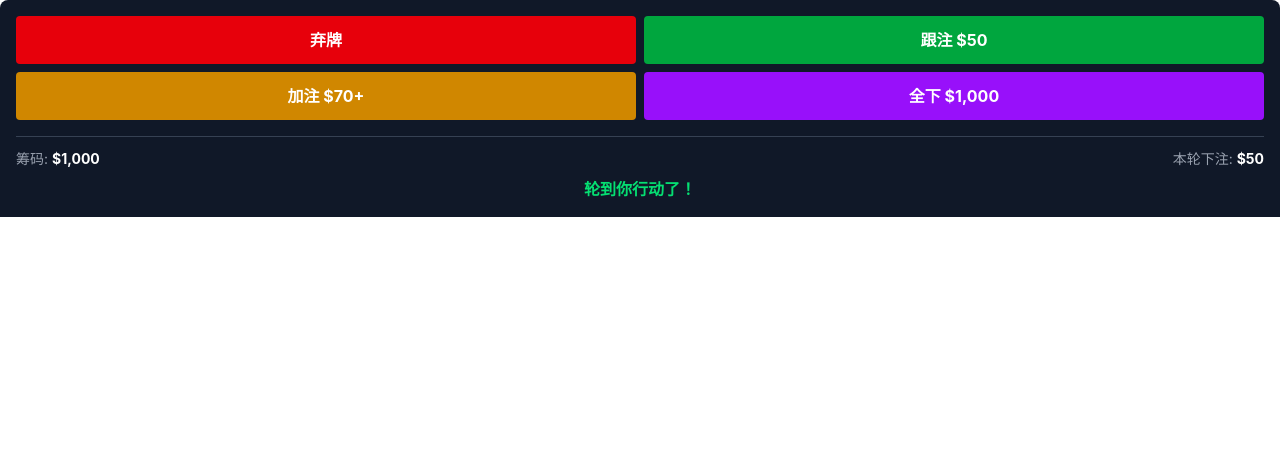
Test: ActionPanel › should use raise slider correctly
Step 1. Click the button "加注 $70+" → (326, 96), box x1=16 y1=72 x2=636 y2=120
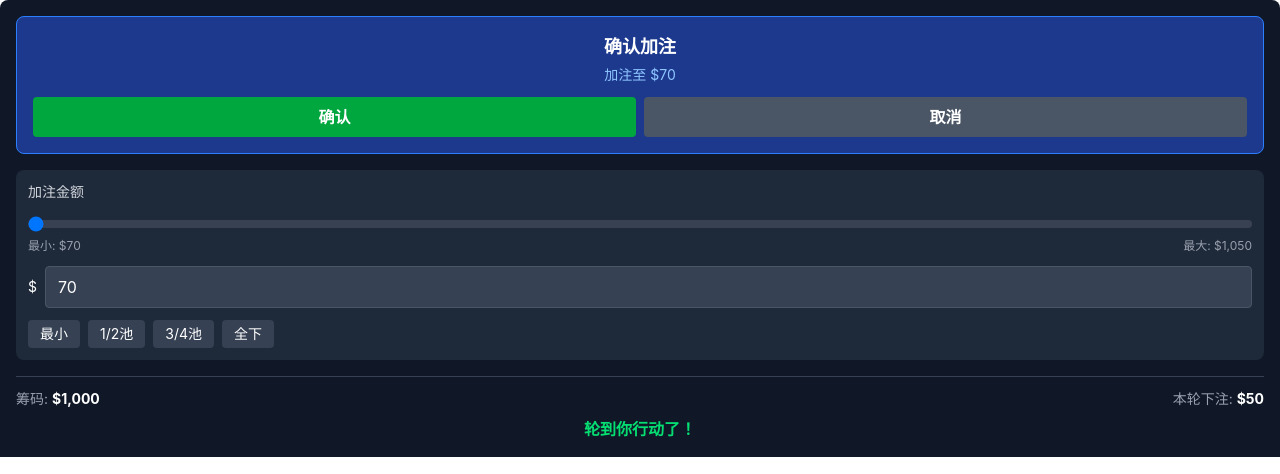
Expected: the slider is shown
Note: Change slider value
Step 2. Set the slider to "500" → (566, 224), box x1=28 y1=220 x2=1252 y2=228
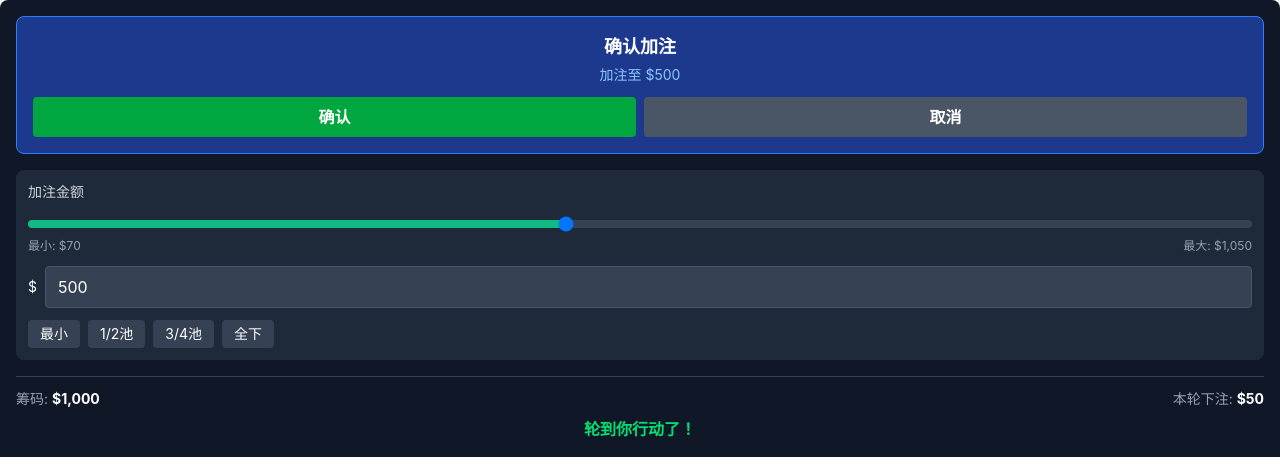
Expected: the number field holds "500", x1=45 y1=266 x2=1252 y2=308
